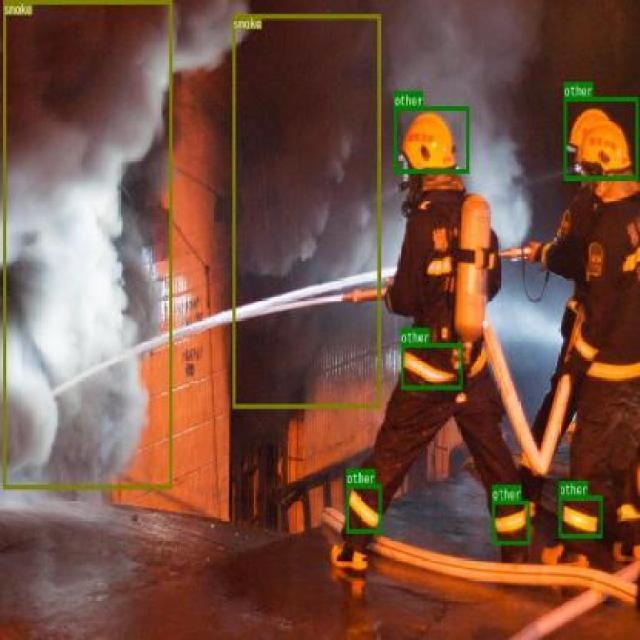Smoke: (3, 0, 171, 489), (232, 14, 380, 408)
